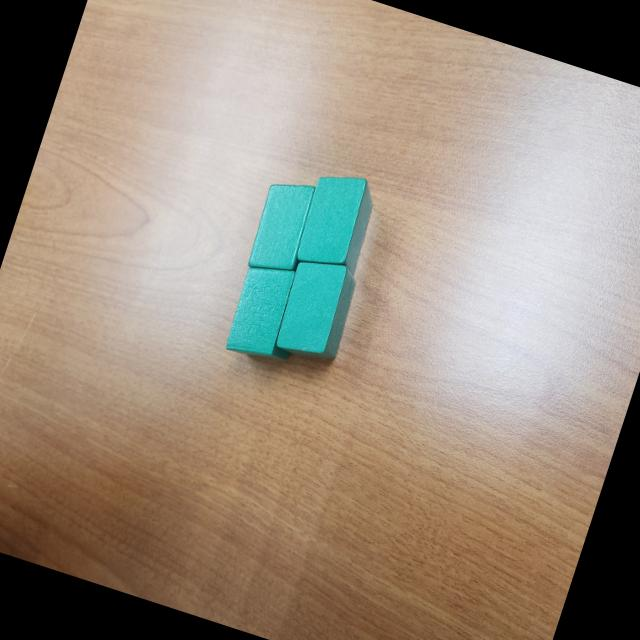green: (268, 250, 364, 369), (222, 256, 314, 370), (292, 164, 383, 279), (244, 170, 324, 282)
